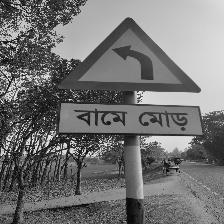Left-Turn: (55, 17, 204, 137)
